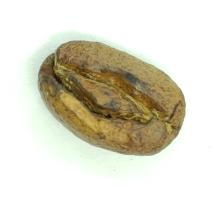NG: (44, 52, 162, 135)
